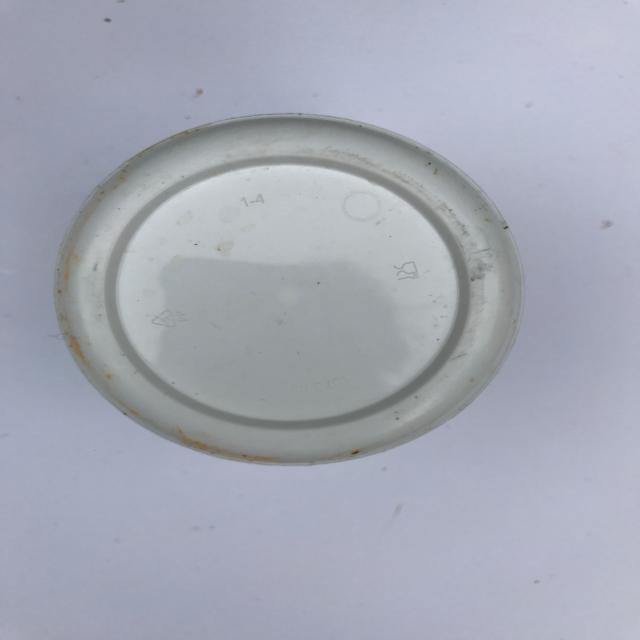plastic: (46, 109, 534, 478)
